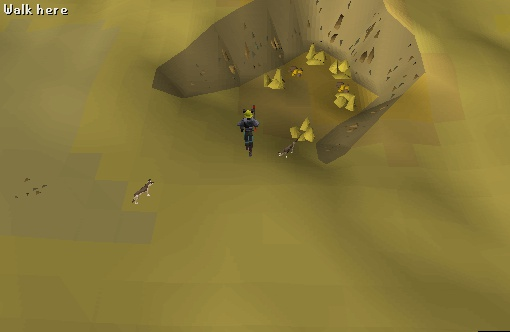gold: (327, 86, 367, 117), (258, 66, 293, 95), (285, 115, 319, 144)
